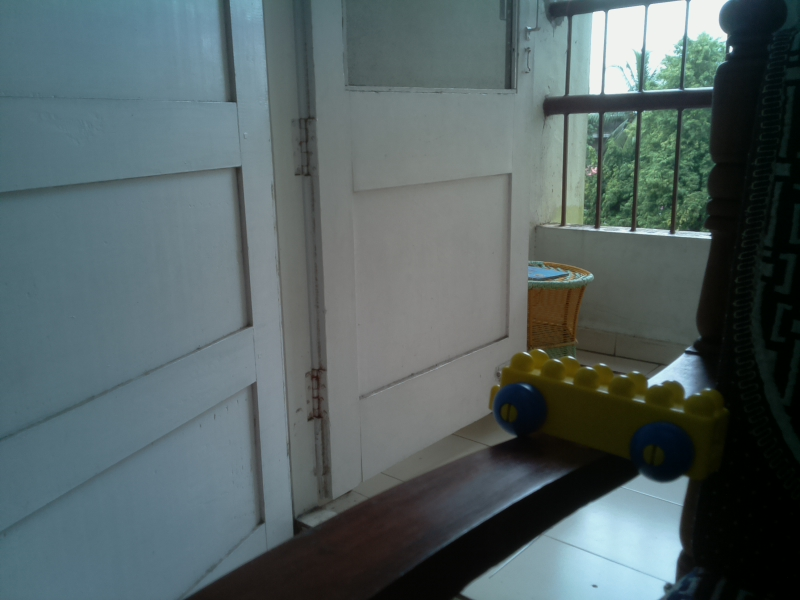toy_Car: (483, 339, 739, 489)
